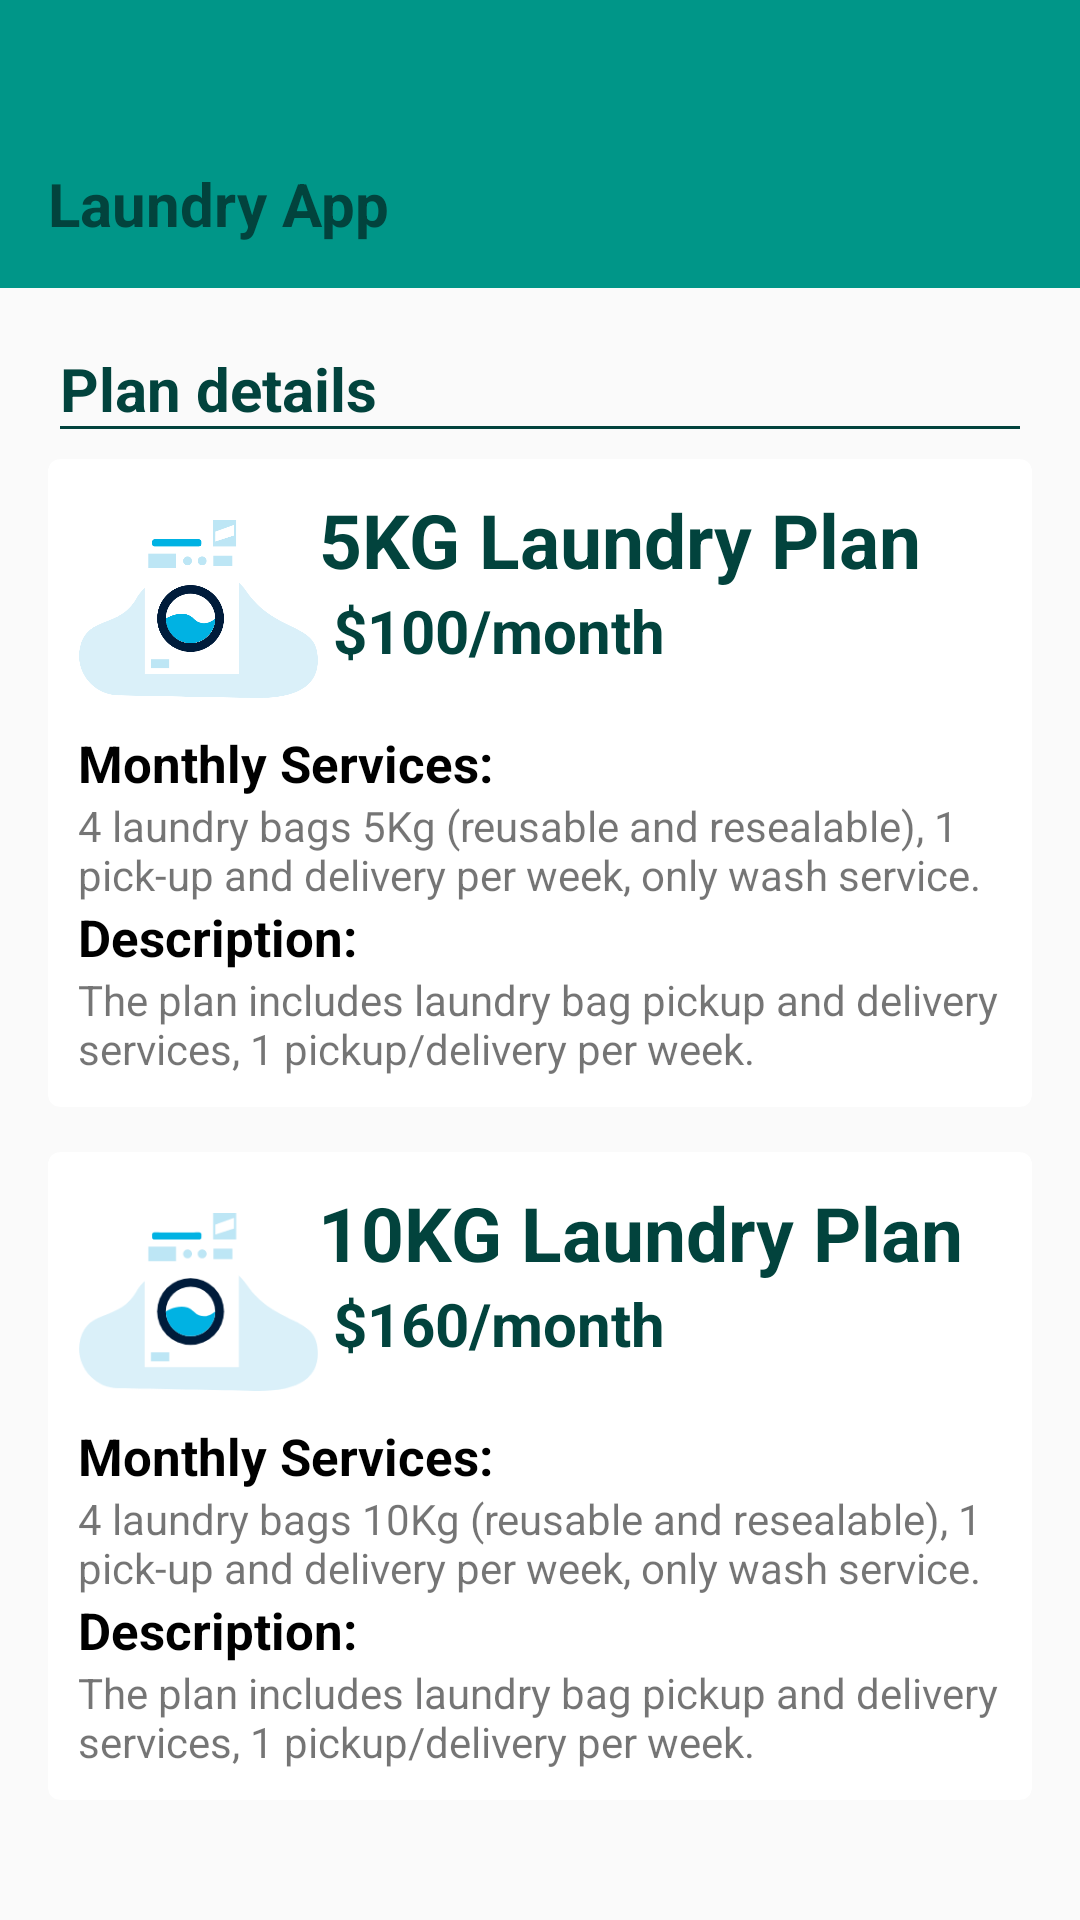

Where icons sit on this 1080 x 1920 app screen, as (x1, y1, x2, y2):
laundry empty: (79, 520, 318, 698), (79, 1213, 318, 1391)
